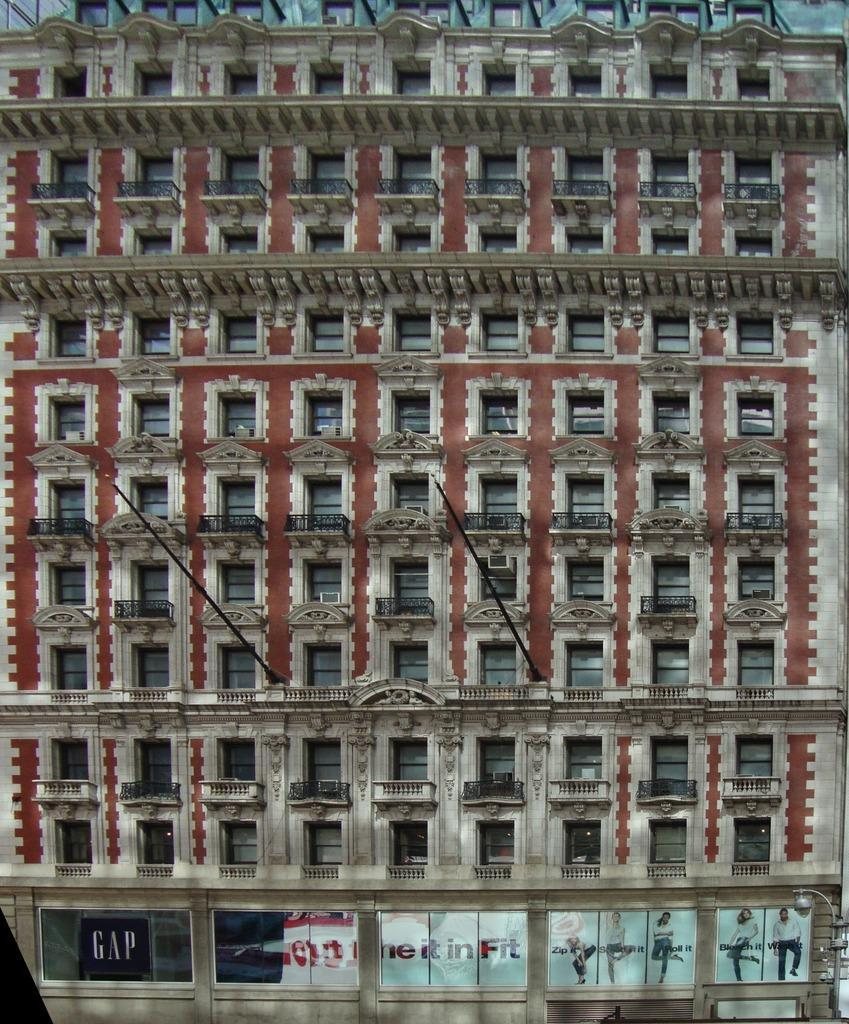window: (389, 557, 430, 615), (653, 558, 689, 613), (738, 475, 775, 528), (567, 475, 604, 528), (133, 478, 170, 530), (50, 480, 87, 532), (654, 473, 690, 525), (481, 475, 517, 527), (392, 474, 428, 526), (305, 476, 341, 528), (220, 478, 256, 530), (51, 152, 88, 201), (136, 148, 173, 197), (223, 147, 260, 196), (307, 147, 344, 196), (736, 153, 773, 202), (480, 148, 517, 197), (566, 148, 603, 197), (652, 149, 689, 198), (477, 559, 519, 602), (395, 145, 432, 193), (563, 557, 604, 600), (304, 643, 343, 688), (567, 310, 607, 353), (479, 310, 519, 353), (305, 311, 345, 354), (736, 312, 776, 354), (651, 310, 691, 352), (393, 309, 433, 351), (219, 313, 259, 355), (218, 561, 255, 606), (49, 314, 87, 357), (219, 395, 257, 438), (653, 393, 691, 436), (218, 645, 256, 688), (391, 738, 428, 782), (391, 640, 428, 684), (390, 822, 427, 866), (739, 737, 776, 781), (52, 645, 87, 691), (135, 643, 170, 689), (51, 739, 90, 780), (133, 314, 171, 356), (47, 397, 85, 439), (132, 396, 170, 438), (305, 394, 343, 436), (480, 393, 518, 435), (567, 393, 605, 435), (736, 395, 774, 437), (304, 740, 341, 783), (481, 642, 518, 685), (567, 643, 604, 686), (566, 736, 603, 779), (564, 821, 601, 864), (652, 642, 689, 685), (652, 737, 689, 780), (735, 819, 772, 862), (740, 556, 776, 600), (219, 739, 255, 783), (480, 738, 516, 782), (738, 642, 774, 686), (651, 820, 687, 864), (133, 742, 171, 783), (392, 392, 429, 434), (56, 820, 92, 863), (138, 821, 174, 864), (220, 822, 256, 865), (305, 823, 341, 866), (478, 822, 514, 865), (50, 564, 85, 608), (306, 564, 341, 608), (135, 562, 170, 605), (393, 61, 431, 96), (135, 62, 172, 97), (651, 65, 688, 99), (311, 63, 345, 96), (225, 64, 259, 97), (738, 69, 771, 101), (735, 232, 773, 259), (570, 65, 602, 97), (484, 65, 516, 97), (50, 231, 87, 258), (135, 229, 172, 256), (221, 229, 258, 256), (308, 226, 345, 253), (394, 227, 431, 254), (479, 227, 516, 254), (567, 229, 604, 256), (651, 229, 688, 256), (55, 67, 87, 97), (77, 4, 111, 29), (324, 3, 355, 26), (492, 5, 523, 28), (587, 6, 615, 30), (234, 2, 263, 22), (678, 5, 701, 29), (175, 2, 197, 25), (429, 4, 451, 27), (735, 8, 763, 25), (147, 3, 168, 21), (650, 5, 671, 22), (398, 3, 421, 16)
